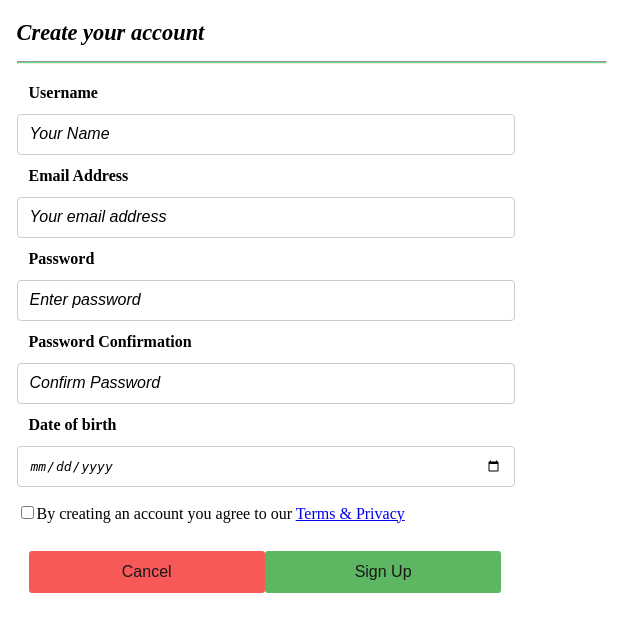
Test case: <SignUp /> › should set confirm_password and error if confirm_password is not equal to password
Type "Napo342" into the password field with placeholder "Confirm Password" at (266, 383), box [16, 362, 515, 404]
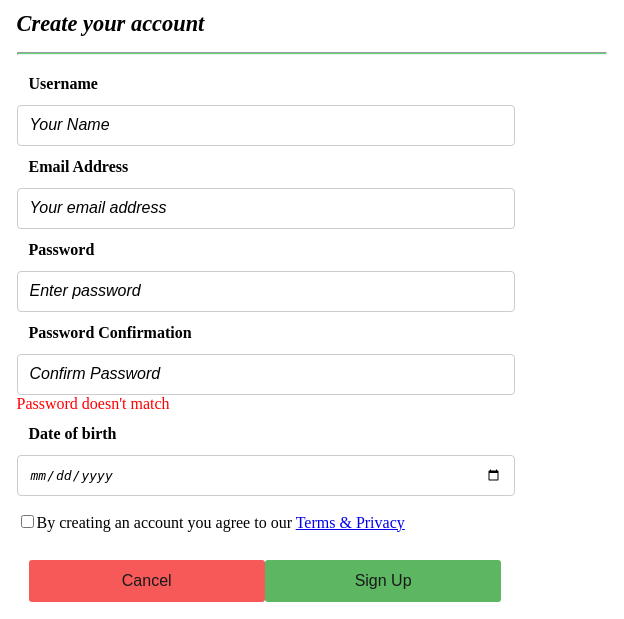
Expected: the text "Password doesn't match" is shown, [16, 394, 170, 412]
